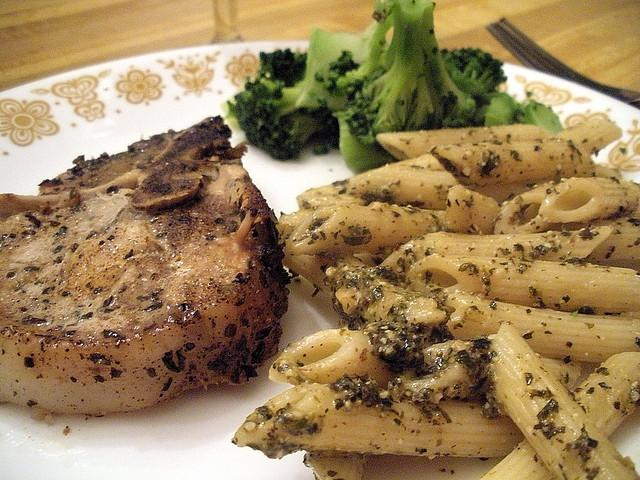broccoli: (225, 0, 506, 175), (467, 88, 526, 126)
